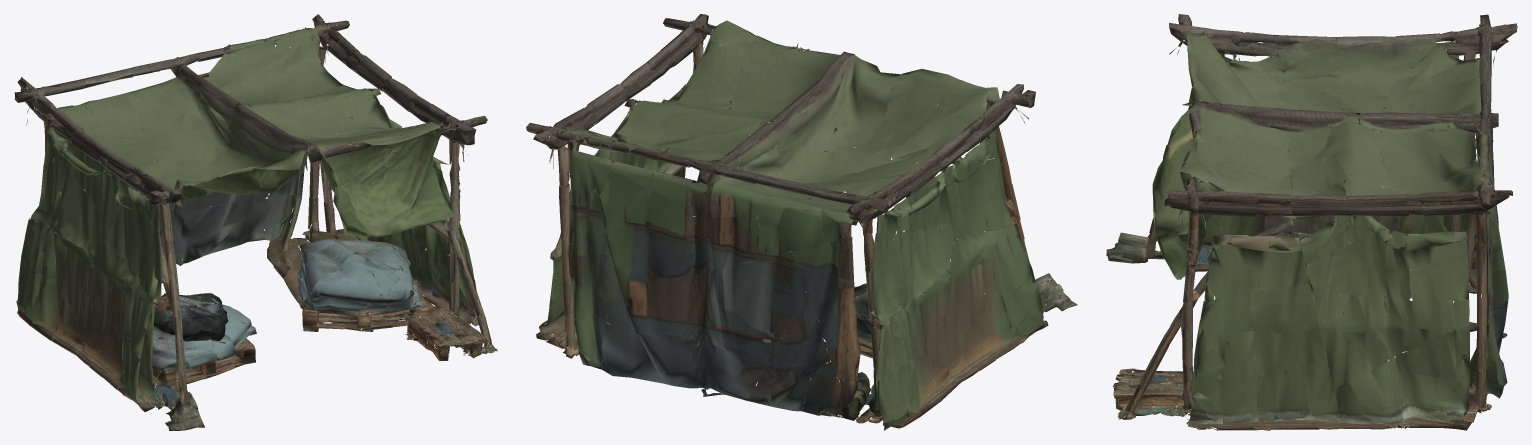
The model's file is Destroyed_workers_tarp_shelter_bedding-game.glb.
3 views of the same model, side by side, from view 1: azimuth 30°, elevation 25°; view 2: azimuth 150°, elevation 25°; view 3: azimuth 270°, elevation 25° (orthographic). The views are drawn at different scales.
Visible parts, largest first — view 1: Mesh_0; view 2: Mesh_0; view 3: Mesh_0.
Boxes of the visible parts, x1=… form: Mesh_0: x1=14, y1=14, x2=497, y2=430; Mesh_0: x1=526, y1=14, x2=1077, y2=430; Mesh_0: x1=1106, y1=14, x2=1517, y2=430.
Size of the model in its own units: 1.9 by 1.14 by 1.75.
1 material, 1 textured.
